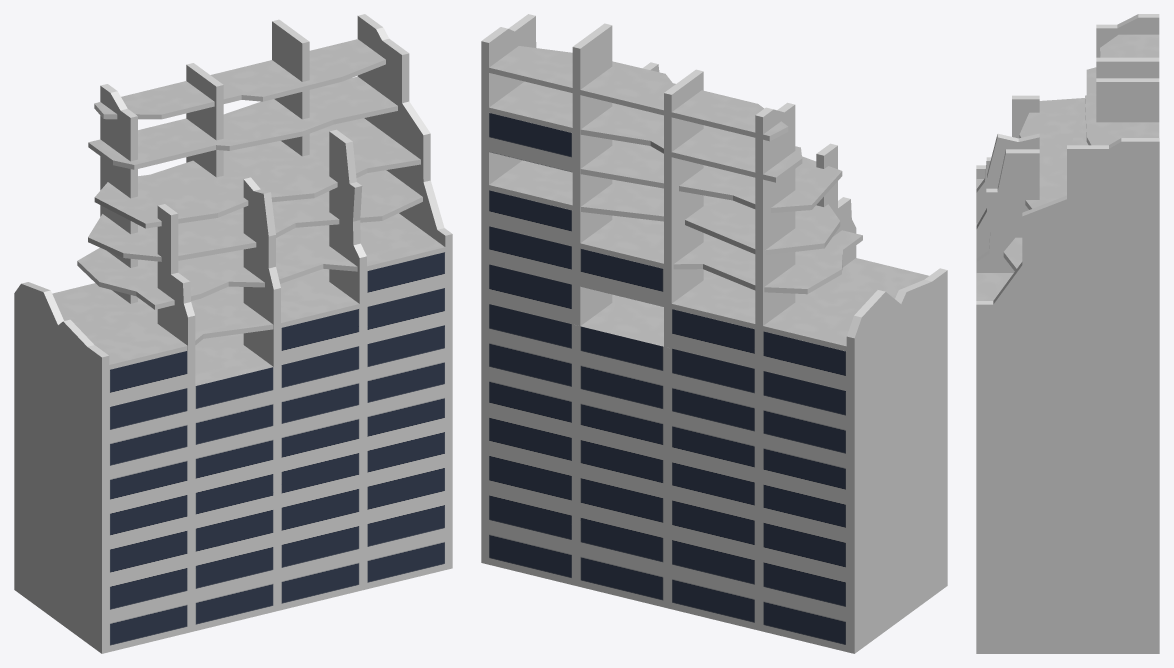
The model's file is Building_DT_M_W6_001.fbx.
The picture shows the model from 3 angles, left to right: view 1: azimuth 30°, elevation 25°; view 2: azimuth 150°, elevation 25°; view 3: azimuth 270°, elevation 25°; orthographic projection. The views are drawn at different scales.
Visible parts, largest first — view 1: Building_DT_M_W6_001; view 2: Building_DT_M_W6_001; view 3: Building_DT_M_W6_001.
Part boxes in pixels (<box>): Building_DT_M_W6_001: <box>14,14,452,653</box>; Building_DT_M_W6_001: <box>481,14,947,653</box>; Building_DT_M_W6_001: <box>976,14,1159,653</box>.
Bounding box in the file's own units: 45 × 61.98 × 19.46.
